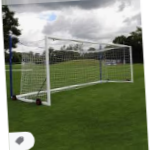goals: (16, 34, 137, 106)
